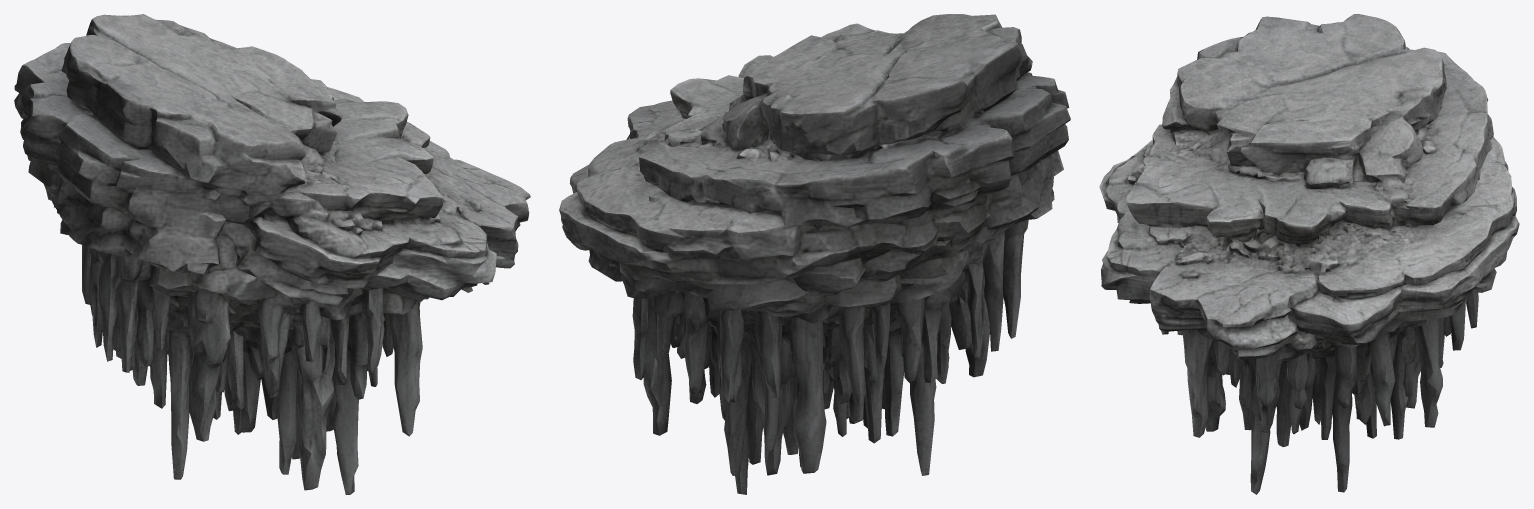
3 views of the same model, side by side, from view 1: azimuth 30°, elevation 25°; view 2: azimuth 150°, elevation 25°; view 3: azimuth 270°, elevation 25° (orthographic). The views are drawn at different scales.
Visible parts, largest first — view 1: world; view 2: world; view 3: world.
Part boxes in pixels (x1,y1,x2,y2): world: (14,14,530,494); world: (559,14,1070,494); world: (1099,14,1519,494).
Size of the model in its own units: 1.01 by 1 by 0.983.
1 material, 1 textured.
